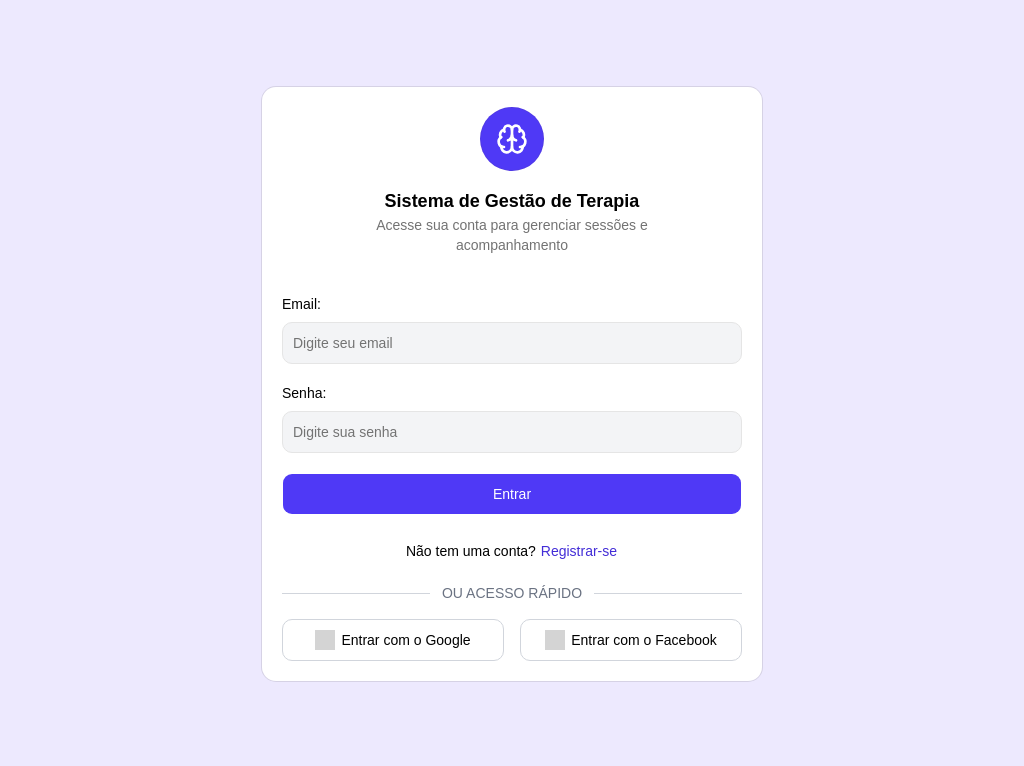
Test: Teste de criação de novo agendamento para paciente › Deve exibir mensagens de erro para dados inválidos
In the field named "email": (512, 343) x1=282 y1=322 x2=742 y2=364, type "teste@teste.com"
In the password field named "password": (512, 432) x1=282 y1=411 x2=742 y2=453, type "1234"
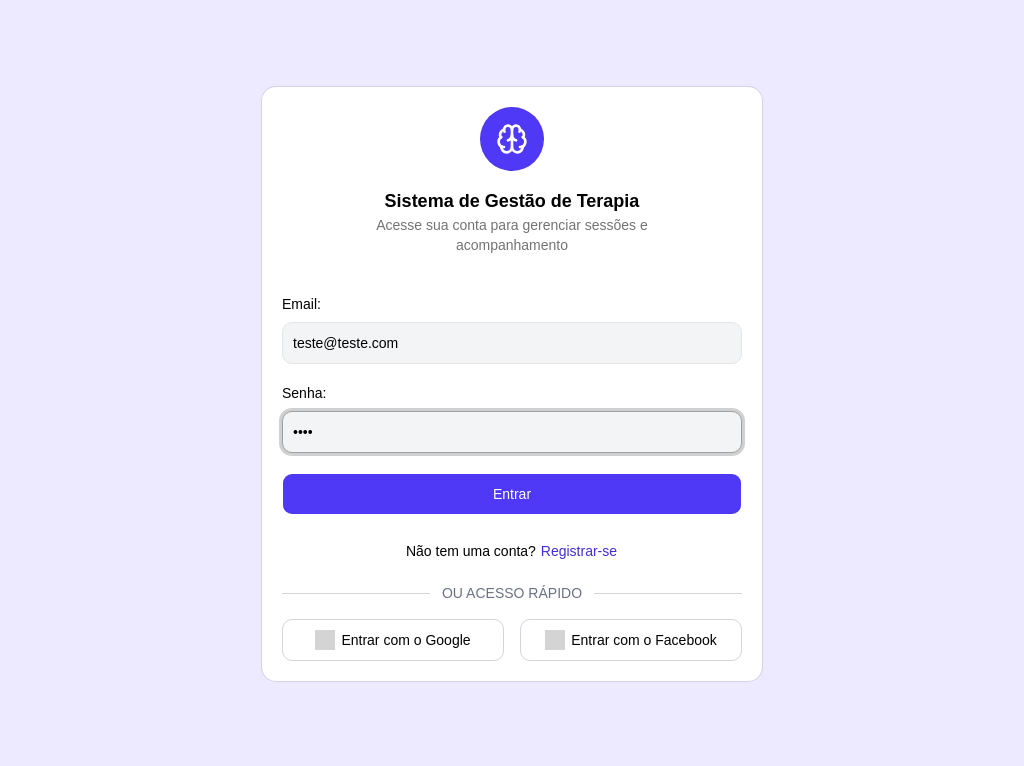
Click the submit button: (512, 494) x1=282 y1=473 x2=742 y2=515
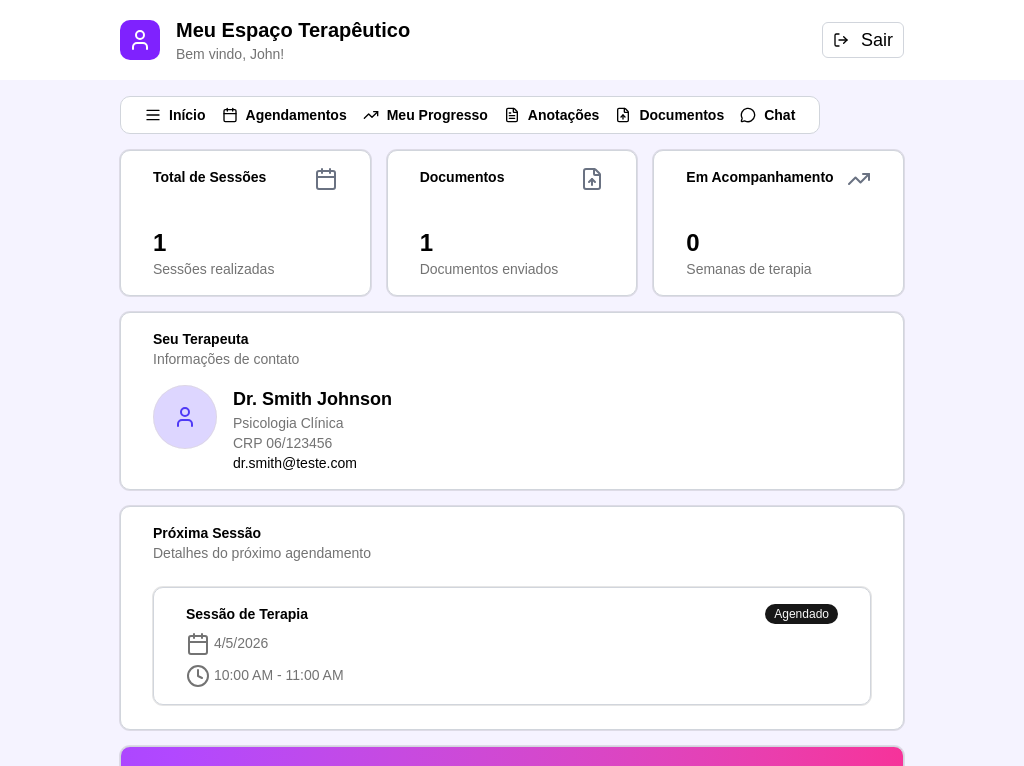
Click the link "Agendamentos": (285, 115) x1=222 y1=107 x2=347 y2=123
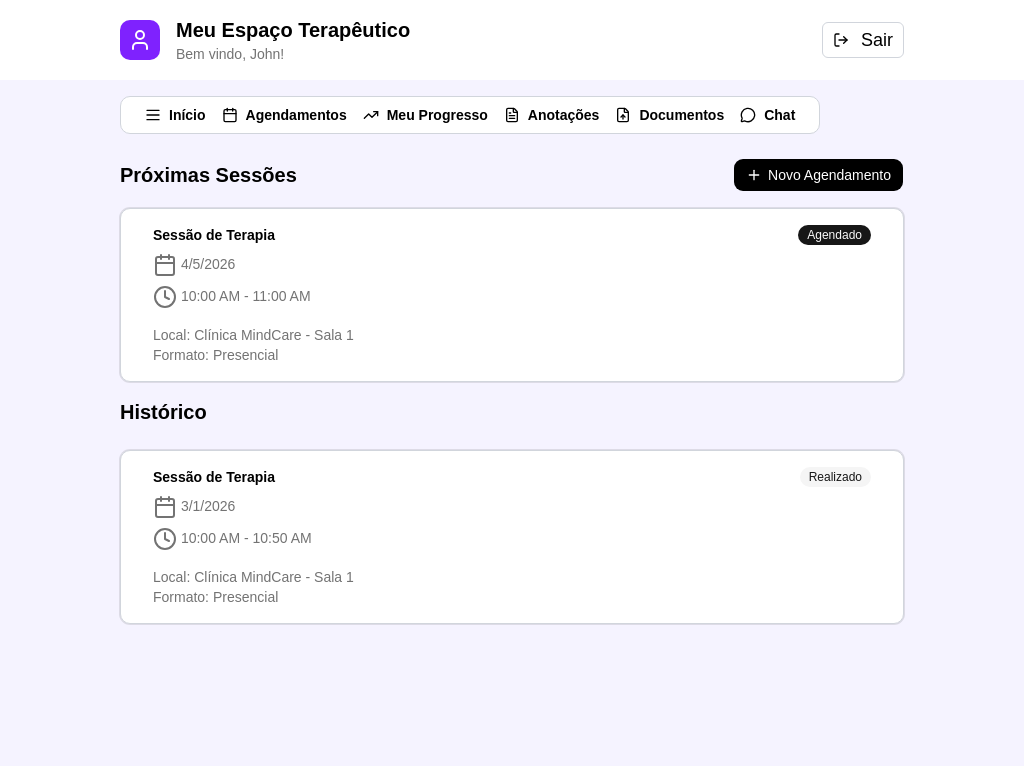
Click the button "Novo Agendamento": (819, 175) x1=733 y1=158 x2=904 y2=192
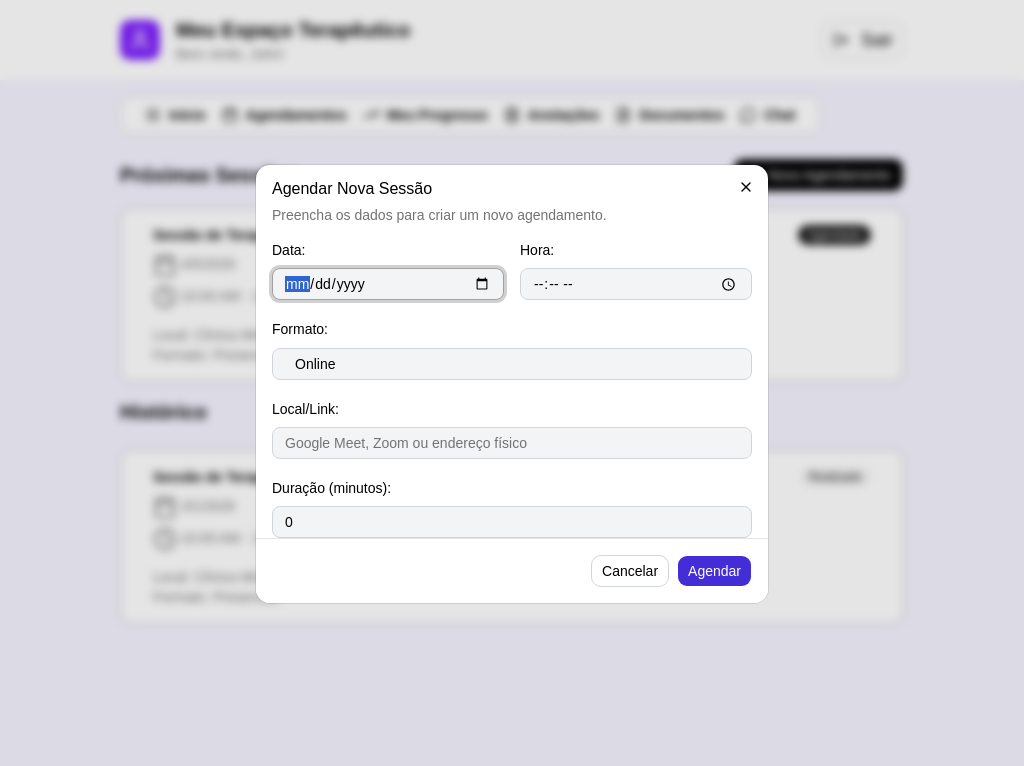
In the date field named "date": (388, 284) x1=272 y1=268 x2=504 y2=300, type "2020-01-01"
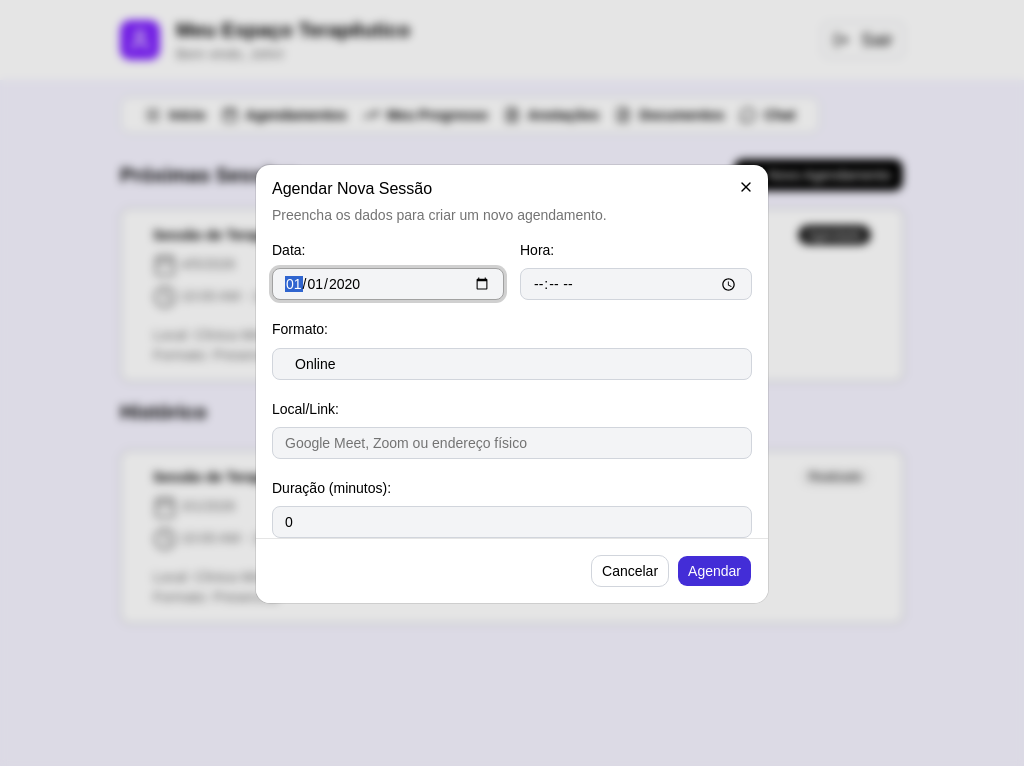
Click the submit button: (715, 571) x1=677 y1=555 x2=752 y2=587
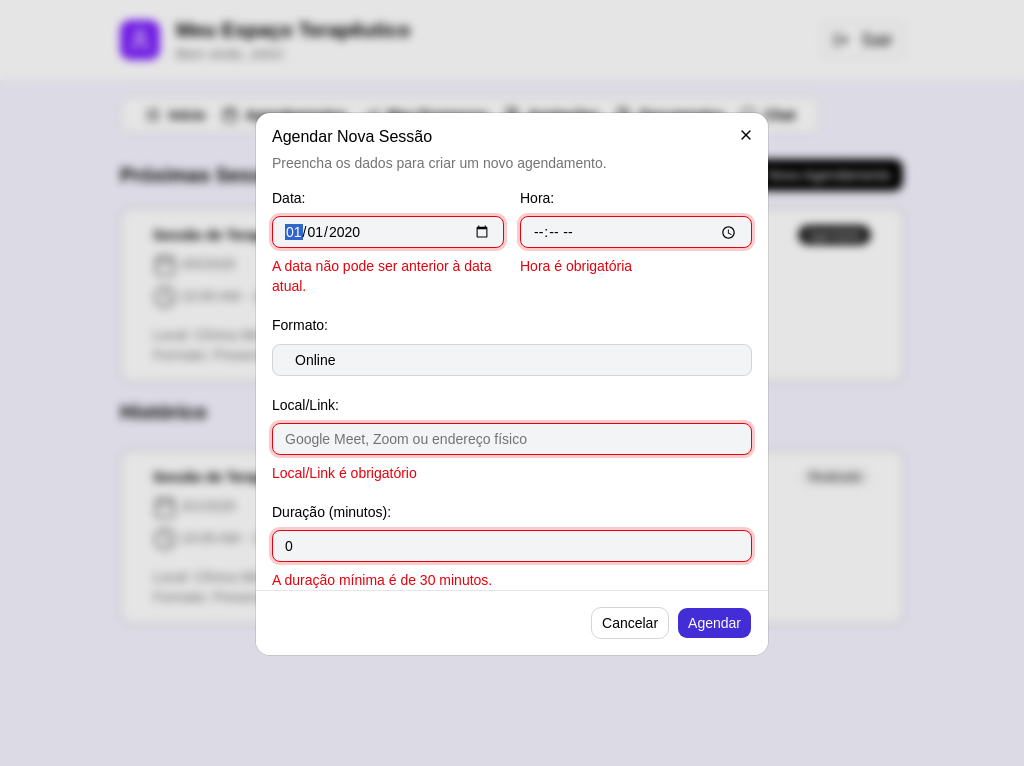
Expected: the text "A data não pode ser anterior à data atual." is shown, x1=272 y1=256 x2=504 y2=296
